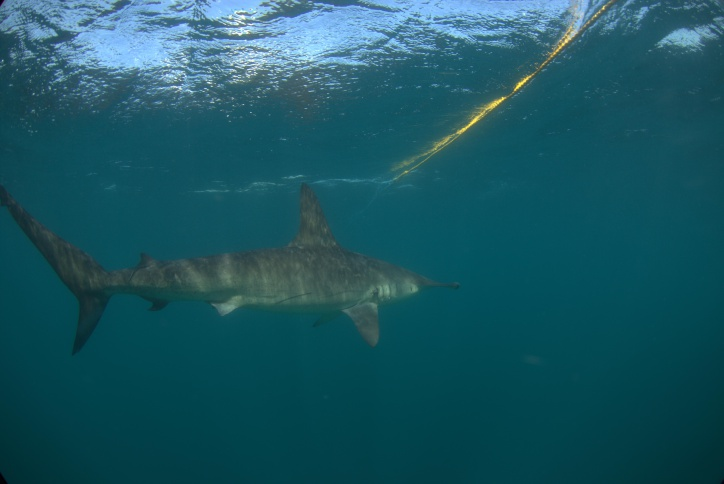Hammer: (24, 153, 469, 396), (300, 221, 535, 362)
